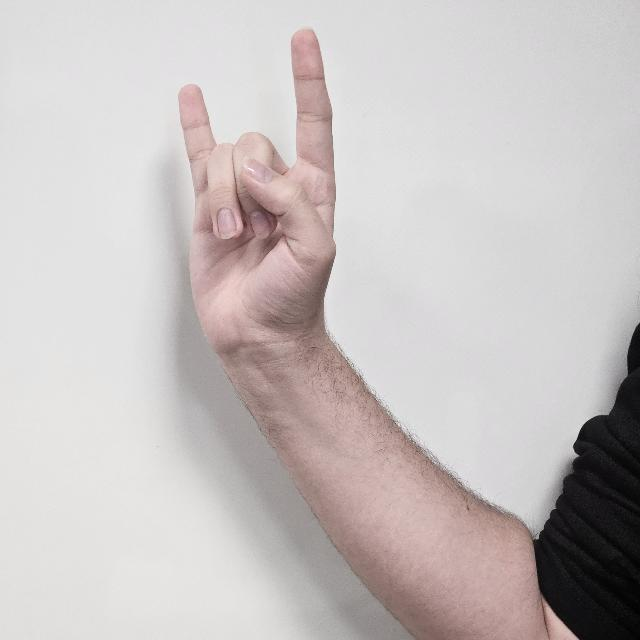L: (170, 27, 338, 369)
